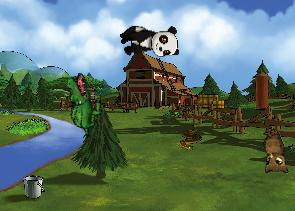crocodile: (51, 70, 114, 139)
owl: (250, 126, 293, 180)
panda: (119, 25, 179, 58)
